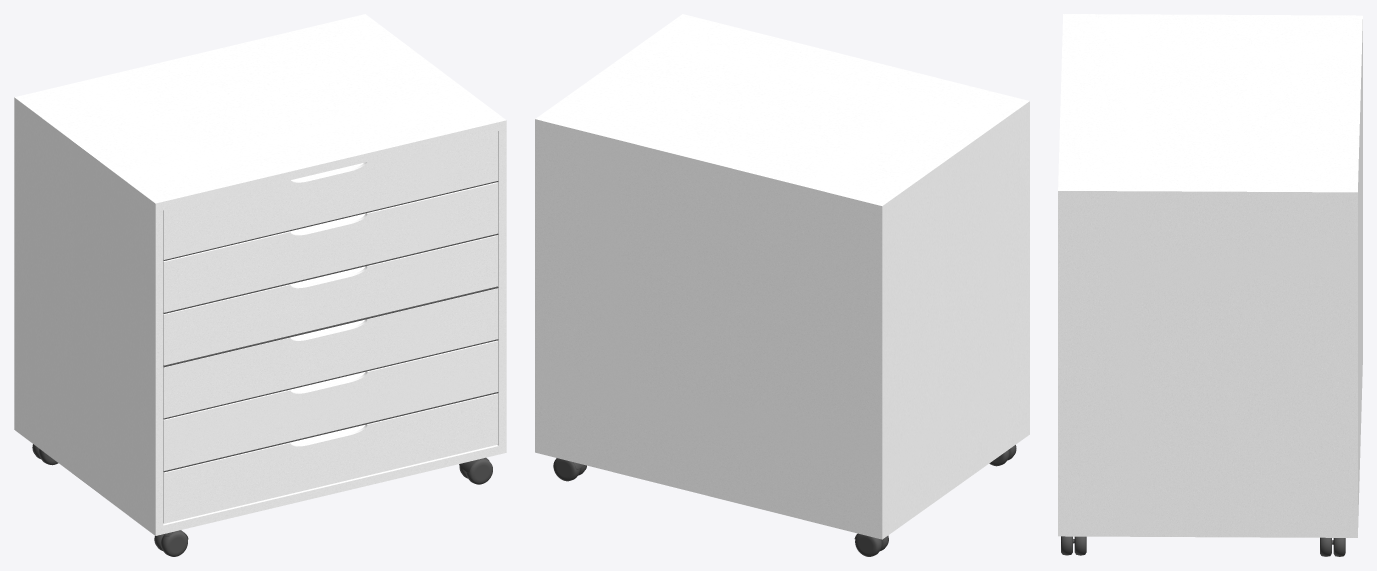
3 renders of one model, left to right at view 1: azimuth 30°, elevation 25°; view 2: azimuth 150°, elevation 25°; view 3: azimuth 270°, elevation 25°, orthographic. The views are drawn at different scales.
Visible parts, largest first — view 1: IKEA-Alex_drawer_white-3D.001; view 2: IKEA-Alex_drawer_white-3D.001; view 3: IKEA-Alex_drawer_white-3D.001.
Part boxes in pixels (x1,y1,x2,y2): IKEA-Alex_drawer_white-3D.001: [14, 14, 506, 556]; IKEA-Alex_drawer_white-3D.001: [535, 14, 1029, 556]; IKEA-Alex_drawer_white-3D.001: [1058, 14, 1362, 556].
Bounding box in the file's own units: 67.58 × 66.23 × 48.81.
2 materials, 1 textured.
